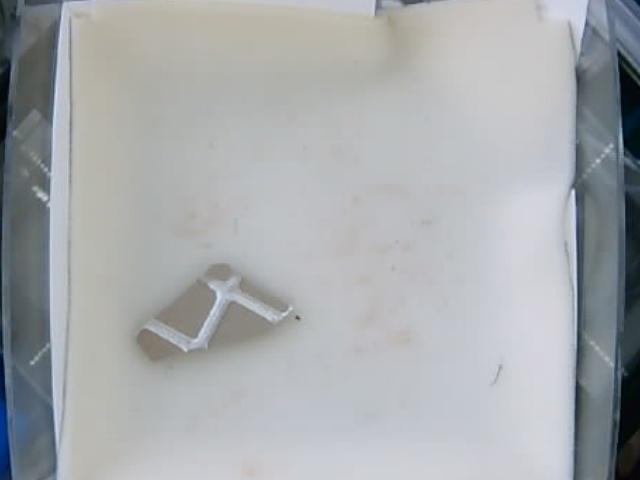China: (136, 262, 298, 363)
